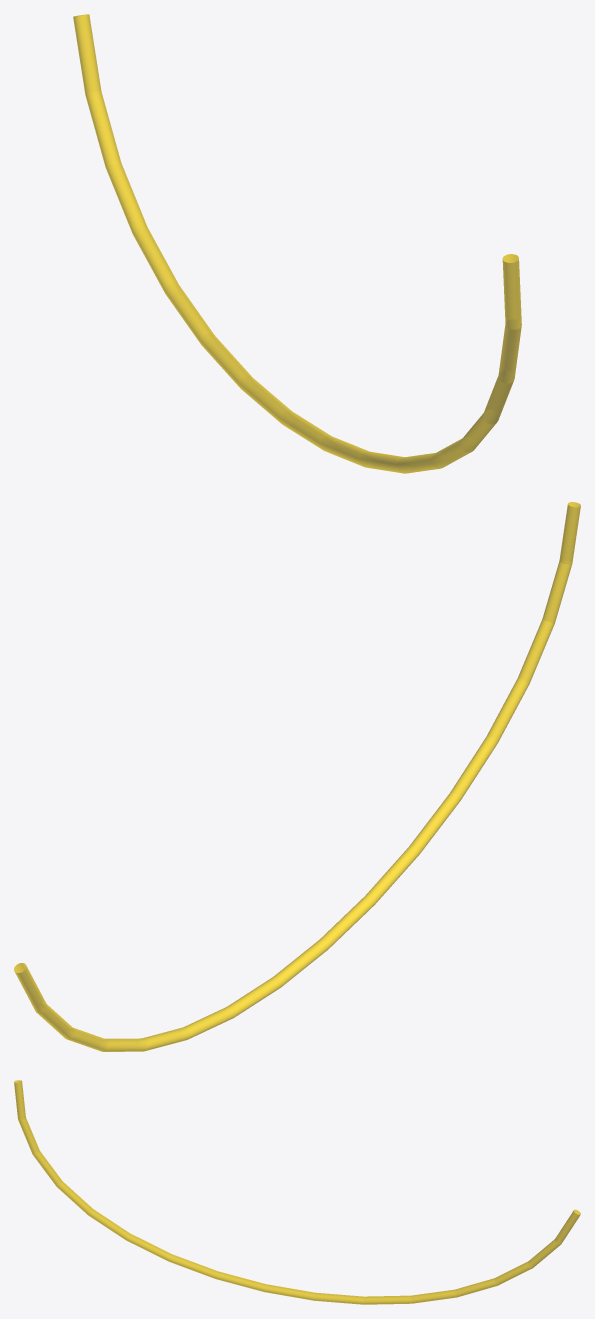
File: Event_75125125_track_18.fbx
3 renders of one model, top to bottom at view 1: azimuth 30°, elevation 25°; view 2: azimuth 150°, elevation 25°; view 3: azimuth 270°, elevation 25°, orthographic. The views are drawn at different scales.
Parts seen in each view (by area): view 1: Model; view 2: Model; view 3: Model.
Boxes of the visible parts, x1,y1,x2,y2 form: Model: (73, 14, 521, 473); Model: (14, 502, 580, 1051); Model: (14, 1080, 580, 1304).
Size of the model in its own units: 0.4029 by 1.09 by 2.75.
